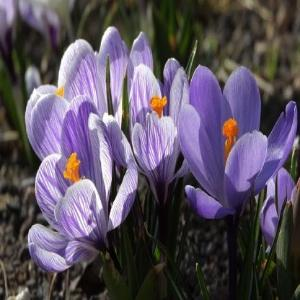Saffron: (186, 62, 298, 240), (38, 114, 131, 278), (107, 65, 200, 220)
